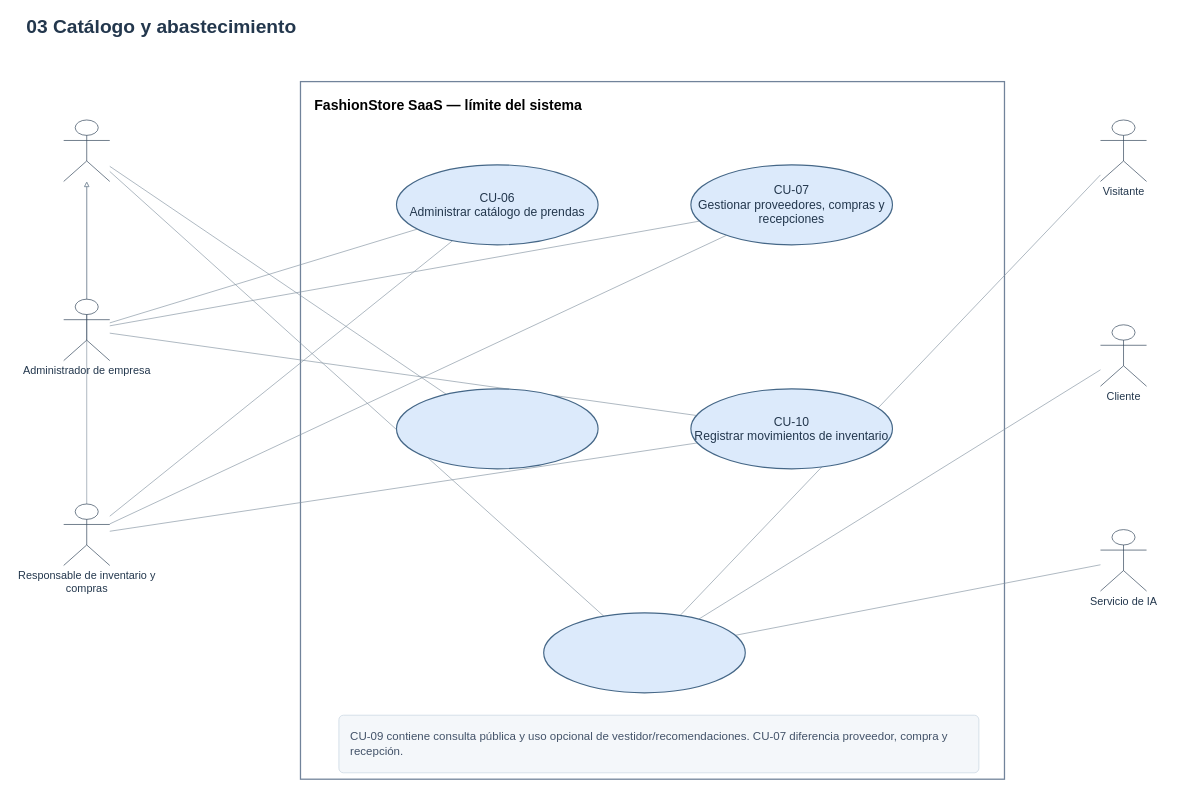
Image size: 1201x790. Some labels were removed from this diagram. Each missing label, with the centre of its shape:
"CU-08 Consultar inventario y disponibilidad" goes at pixel 497 428.
"CU-09 Explorar catálogo y asistencia de compra" goes at pixel 644 652.
"Personal de empresa (general)" goes at pixel 86 150.
